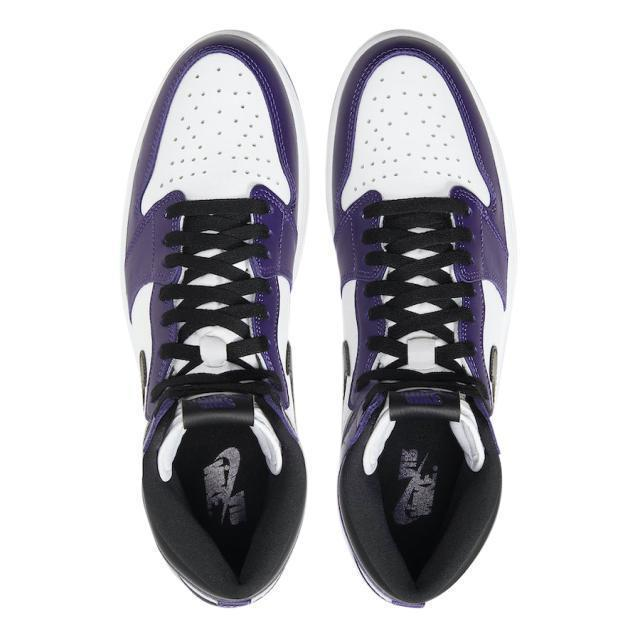nike original jordan 1: (121, 27, 323, 609), (326, 30, 514, 608)
